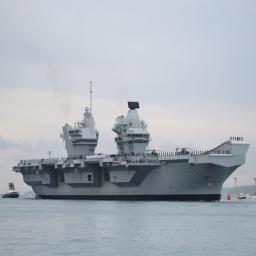Portanaves: (13, 80, 252, 202)
